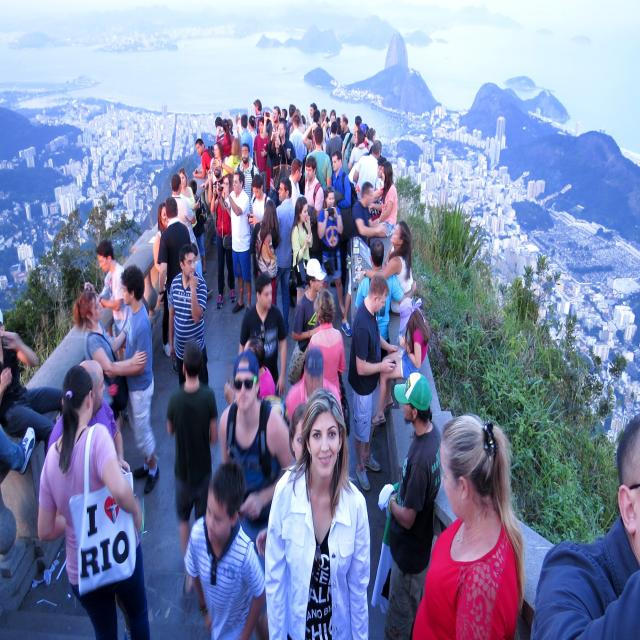body: (34, 362, 153, 640), (263, 384, 374, 640), (42, 362, 144, 640), (411, 412, 525, 640), (528, 412, 640, 640), (219, 348, 296, 640), (380, 370, 442, 640), (185, 457, 268, 639), (102, 261, 162, 497), (166, 339, 219, 598), (347, 272, 401, 494), (72, 288, 140, 436), (0, 306, 64, 460), (353, 238, 417, 386), (368, 295, 432, 428), (340, 180, 387, 339), (308, 288, 351, 438), (167, 242, 210, 390), (211, 95, 373, 134), (238, 272, 288, 398), (358, 219, 414, 315), (216, 170, 252, 314), (284, 345, 346, 425), (82, 240, 132, 338), (291, 257, 329, 379), (329, 148, 359, 299), (157, 196, 193, 308), (316, 185, 346, 318), (210, 173, 236, 310), (274, 177, 296, 338), (224, 336, 276, 403), (252, 199, 282, 307), (0, 404, 36, 492), (152, 202, 172, 358), (366, 160, 398, 247), (290, 196, 312, 304), (262, 105, 286, 199), (187, 179, 208, 276), (169, 173, 198, 243), (304, 126, 334, 190), (347, 144, 374, 214), (235, 141, 260, 215), (267, 129, 290, 209), (352, 140, 382, 198), (288, 114, 308, 197), (177, 167, 200, 237), (287, 399, 310, 465), (245, 174, 272, 230), (303, 154, 325, 221), (200, 141, 229, 190), (253, 116, 270, 197), (208, 156, 235, 205), (340, 119, 362, 176), (369, 155, 387, 217), (324, 120, 344, 173), (348, 129, 370, 171), (301, 121, 327, 155), (277, 120, 296, 166), (192, 138, 213, 178), (222, 137, 243, 177), (215, 118, 236, 158), (289, 157, 305, 207), (240, 113, 253, 159), (339, 114, 351, 152), (248, 115, 258, 159), (357, 122, 370, 150), (366, 127, 376, 150)
